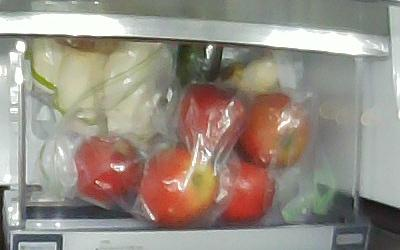apple_vinyl: (137, 142, 220, 226), (237, 91, 308, 168), (73, 132, 143, 202), (176, 81, 247, 149), (210, 158, 275, 223)
